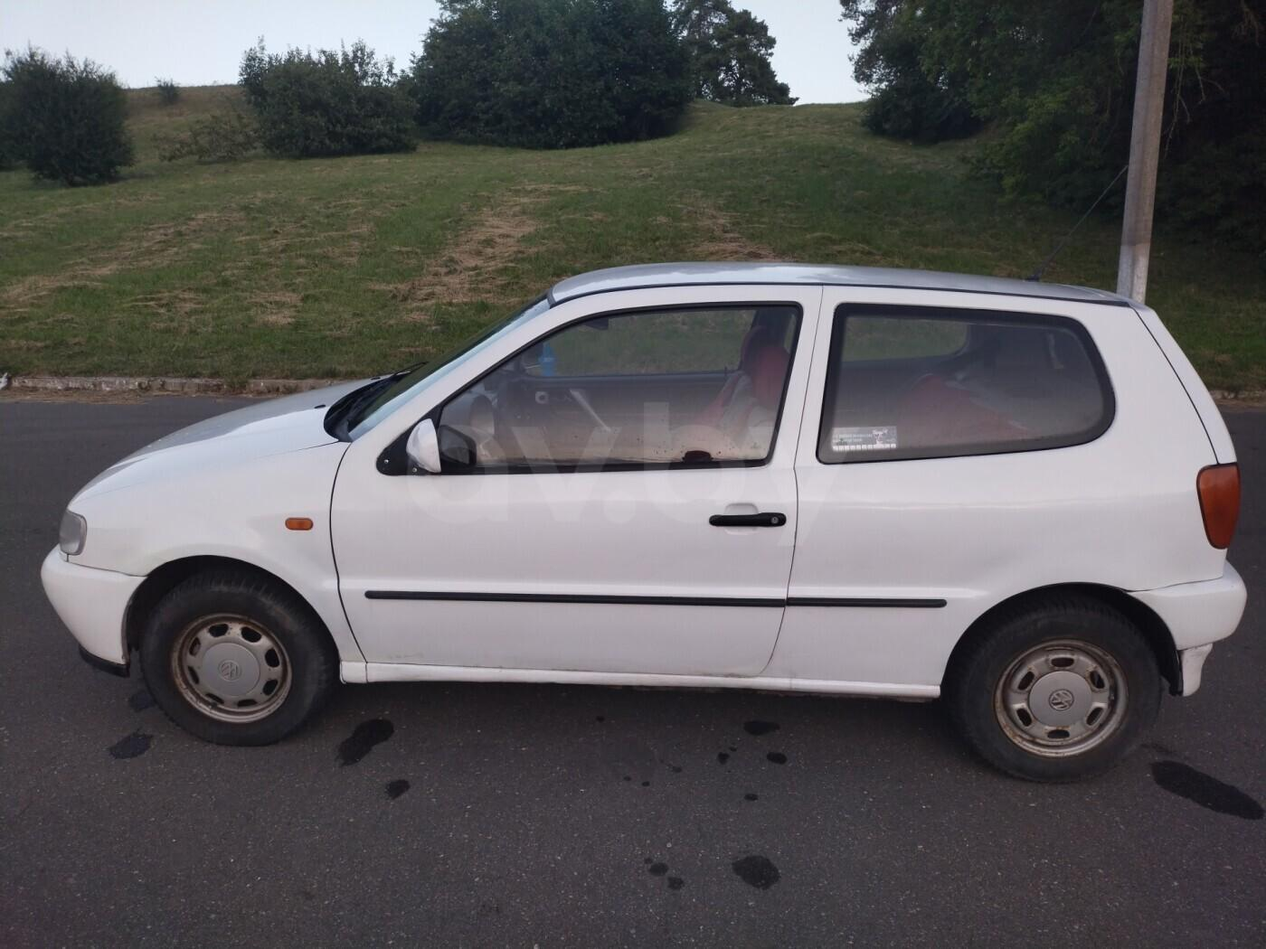Polo_1994-2002: (0, 263, 1265, 746)
